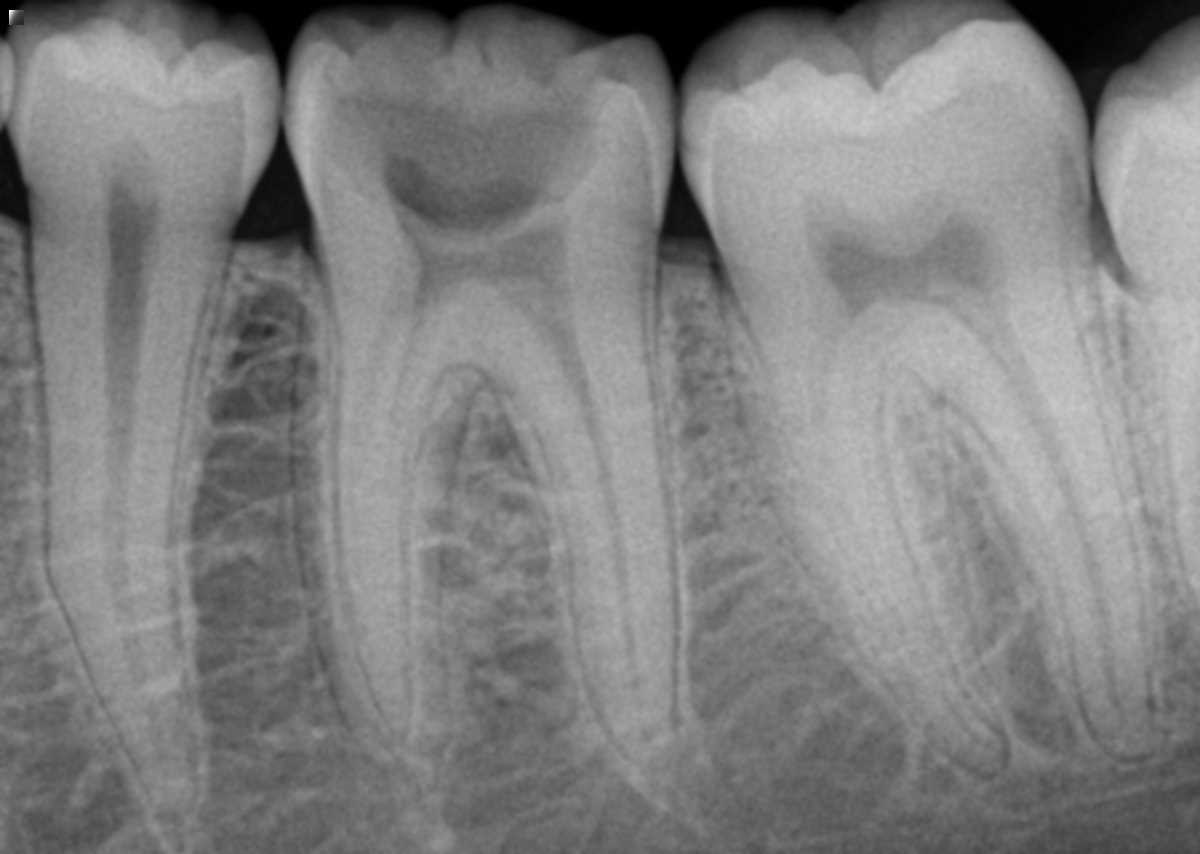Apical Lesion: (638, 721, 732, 812)
Distal Canal: (984, 312, 1124, 727), (552, 334, 659, 754)
Distal Root: (936, 308, 1158, 759), (484, 327, 680, 762)
Main Canal: (104, 246, 177, 783)
Main Root: (26, 229, 233, 838)
Mesial Root: (739, 324, 1009, 774), (295, 306, 485, 765)
decay: (316, 79, 611, 239)
